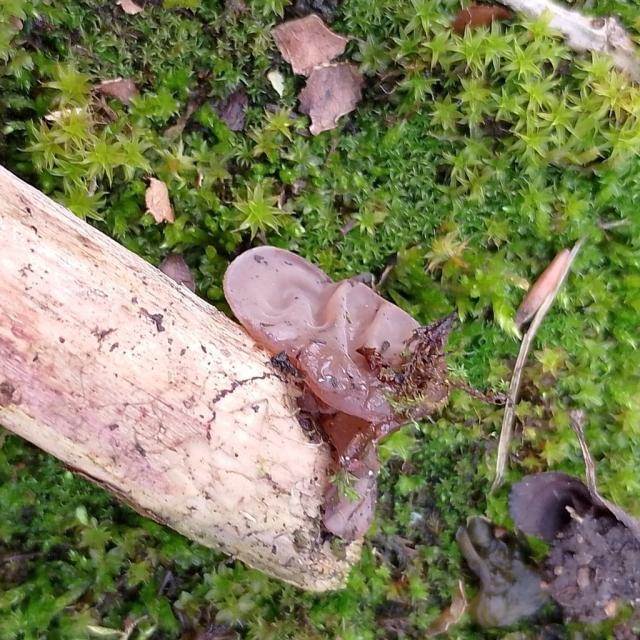Fase Muda: (212, 238, 459, 487)
